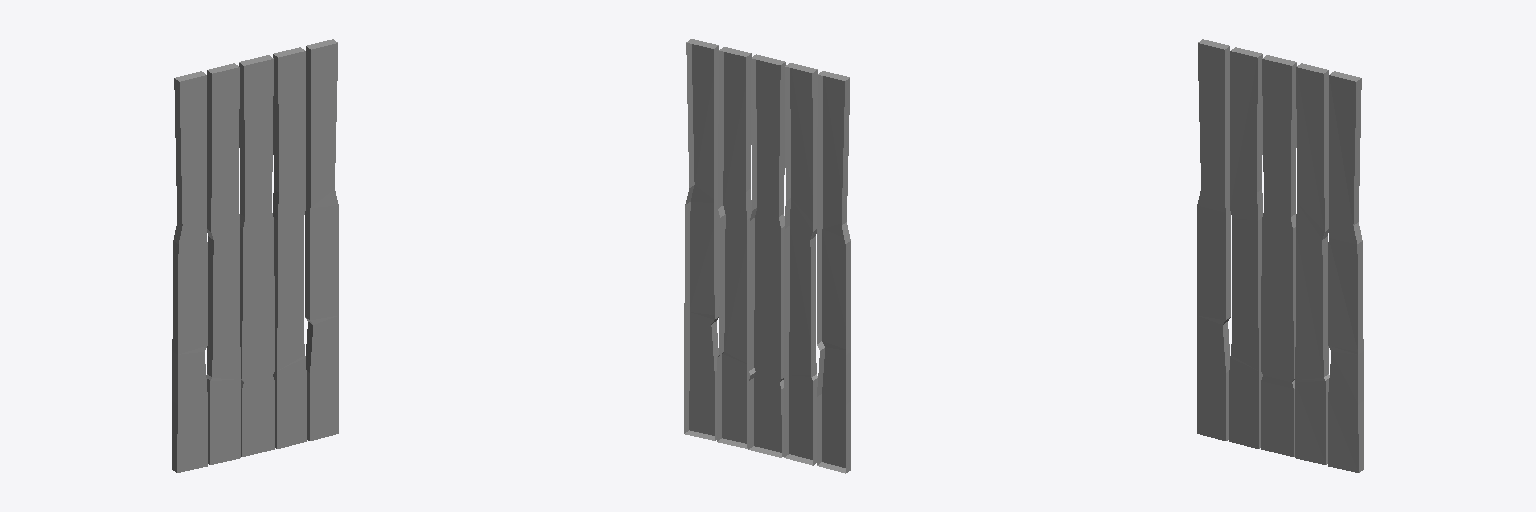
Rendered from Door2.obj.
3 views of the same model, side by side, from view 1: azimuth 30°, elevation 25°; view 2: azimuth 150°, elevation 25°; view 3: azimuth 330°, elevation 25° (orthographic).
Parts seen in each view (by area): view 1: Door2_Cube.071; view 2: Door2_Cube.071; view 3: Door2_Cube.071.
Part boxes in pixels (bbox=[...]): Door2_Cube.071: bbox=[172, 39, 338, 472]; Door2_Cube.071: bbox=[684, 39, 850, 473]; Door2_Cube.071: bbox=[1197, 39, 1363, 472].
Size of the model in its own units: 0.3977 by 0.9182 by 0.0254.